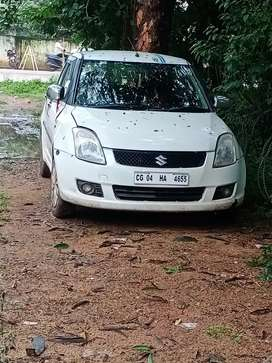CG04HA4553: (133, 173, 189, 184)
